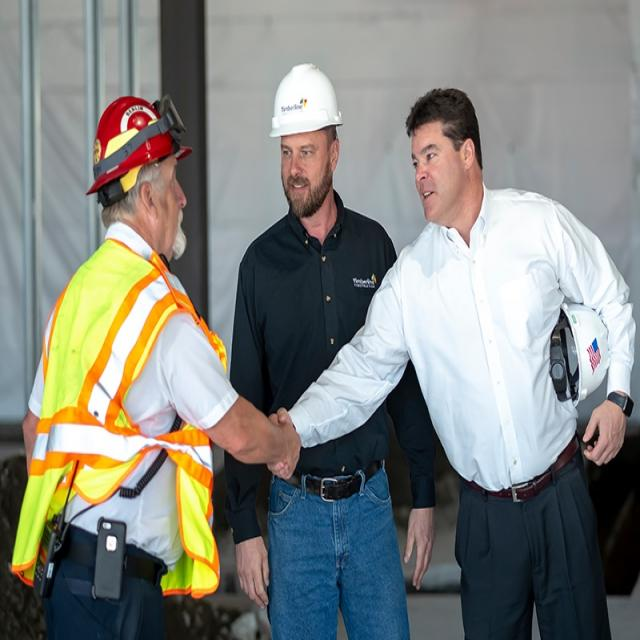Reflective-Jacket: (11, 247, 226, 595)
Safety-Helmet: (82, 90, 185, 199), (268, 56, 345, 143)
